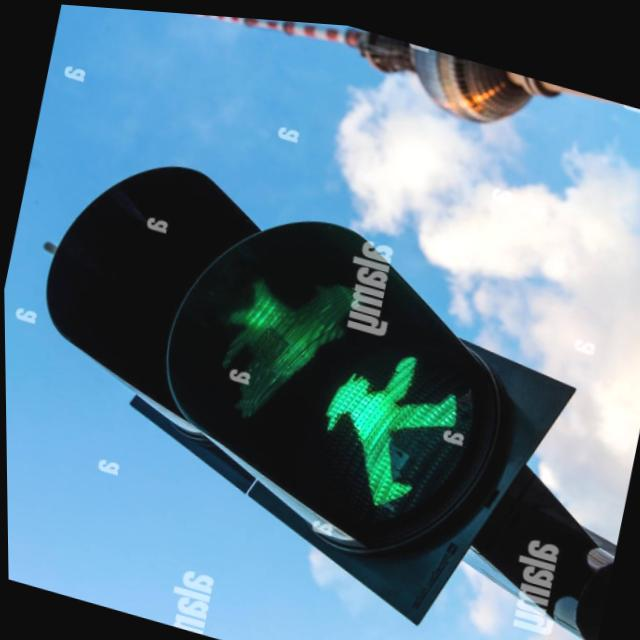green_light: (305, 332, 450, 511)
